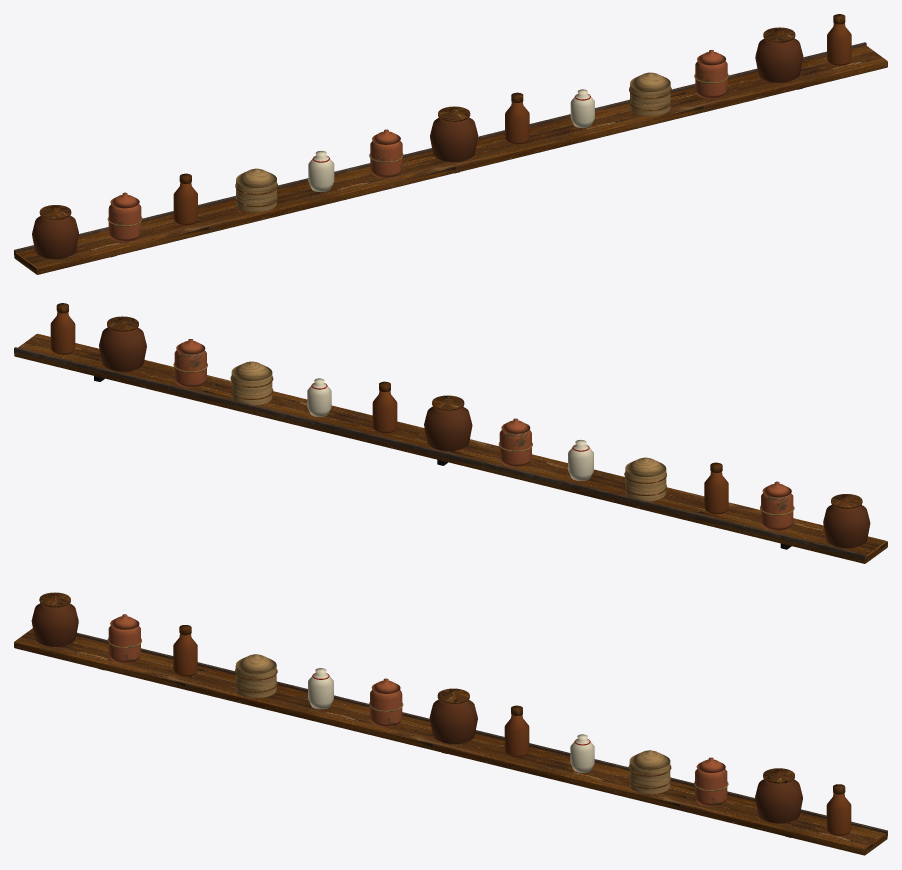
Rendered from PROP_WarmWood_Shelf_Jars.glb.
The picture shows the model from 3 angles, top to bottom: view 1: azimuth 30°, elevation 25°; view 2: azimuth 150°, elevation 25°; view 3: azimuth 330°, elevation 25°; orthographic projection.
Visible parts, largest first — view 1: PROP_WarmWood_Shelf_Jars; view 2: PROP_WarmWood_Shelf_Jars; view 3: PROP_WarmWood_Shelf_Jars.
Part boxes in pixels (x1,y1,x2,y2): PROP_WarmWood_Shelf_Jars: [14, 14, 887, 274]; PROP_WarmWood_Shelf_Jars: [14, 303, 887, 563]; PROP_WarmWood_Shelf_Jars: [14, 592, 887, 855].
Size of the model in its own units: 6.2 by 0.405 by 0.3.
10 materials, 10 textured.
